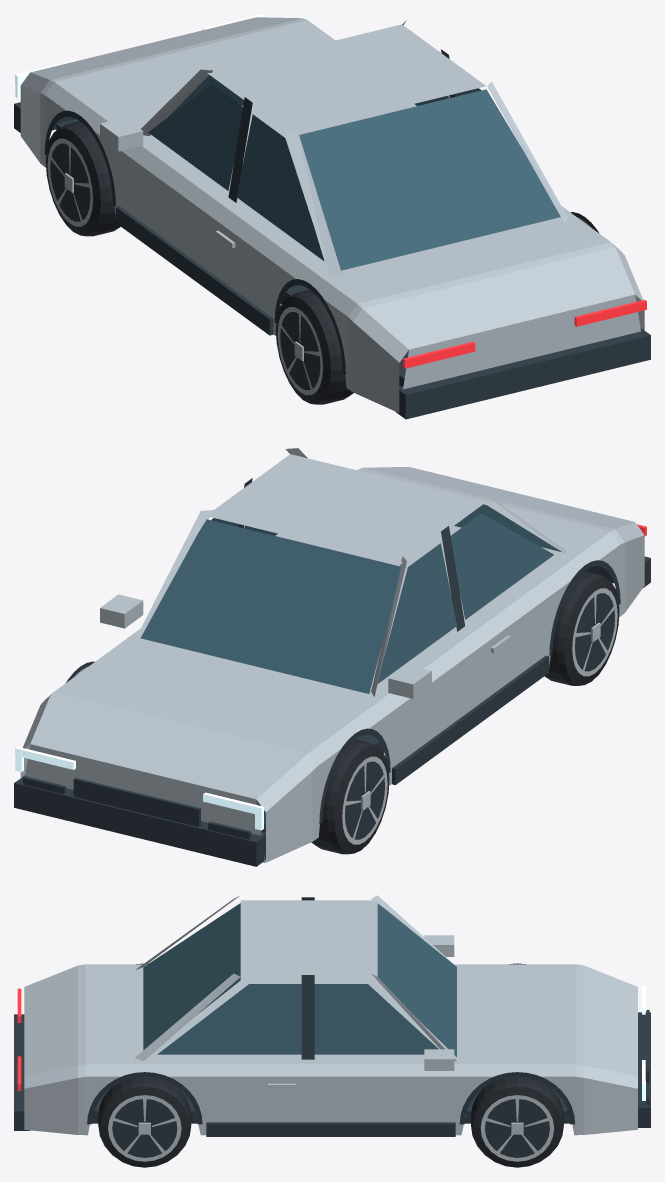
Rendered from meridian_s.glb.
3 views of the same model, one above another, from view 1: azimuth 30°, elevation 25°; view 2: azimuth 150°, elevation 25°; view 3: azimuth 270°, elevation 25° (orthographic). The views are drawn at different scales.
Parts seen in each view (by area): view 1: Body, Wheel_2, Wheel_0; view 2: Body, Wheel_0, Wheel_2; view 3: Body, Wheel_3, Wheel_1.
Part boxes in pixels (<box>): Body: <box>14,14,650,419</box>; Wheel_2: <box>275,289,353,404</box>; Wheel_0: <box>45,121,120,236</box>; Body: <box>14,448,650,866</box>; Wheel_0: <box>311,739,389,854</box>; Wheel_2: <box>544,571,619,685</box>; Body: <box>14,895,650,1136</box>; Wheel_3: <box>98,1076,191,1167</box>; Wheel_1: <box>471,1076,563,1167</box>.
Size of the model in its own units: 2.14 by 1.42 by 4.65.
